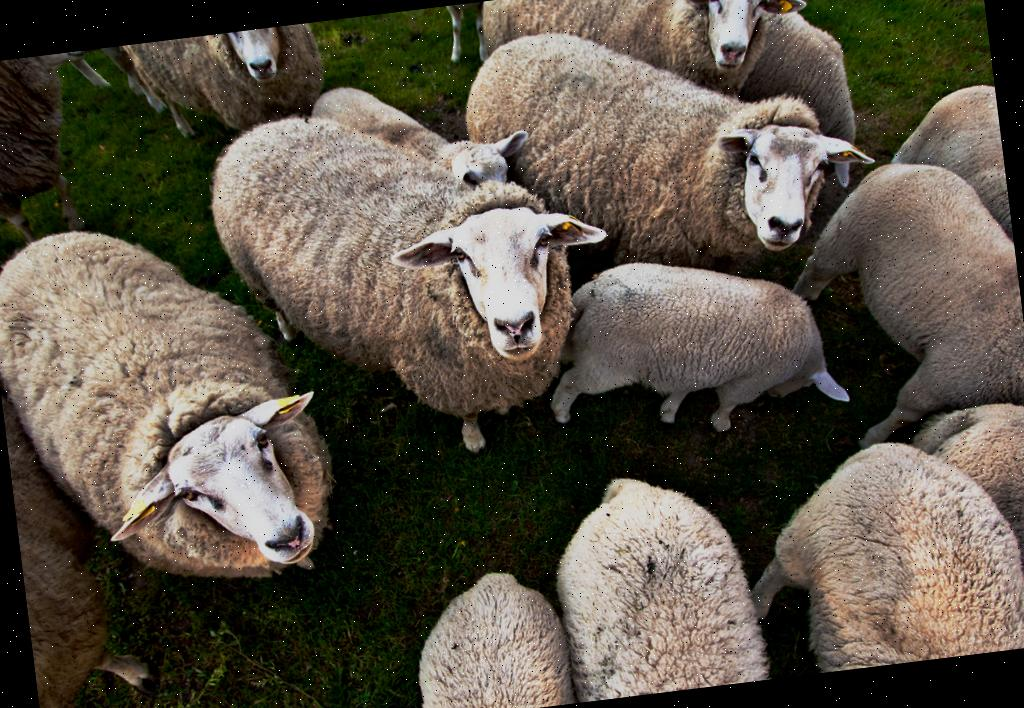Sheep: (0, 121, 363, 658), (198, 65, 634, 471), (431, 0, 889, 304), (731, 413, 1024, 680), (538, 227, 862, 460), (0, 346, 206, 708), (785, 150, 1024, 457), (530, 460, 774, 705), (306, 52, 540, 216), (875, 77, 1019, 296), (112, 18, 360, 142), (395, 552, 575, 708), (922, 385, 1024, 656), (0, 48, 123, 262), (0, 264, 28, 325), (244, 526, 262, 530)
